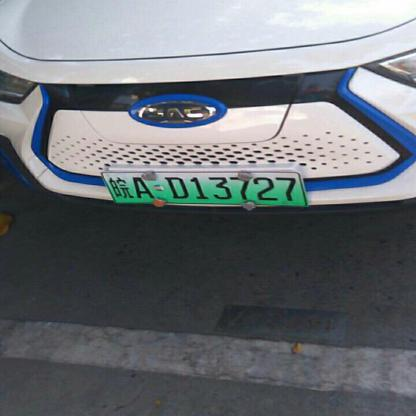lp: (101, 172, 306, 205)
